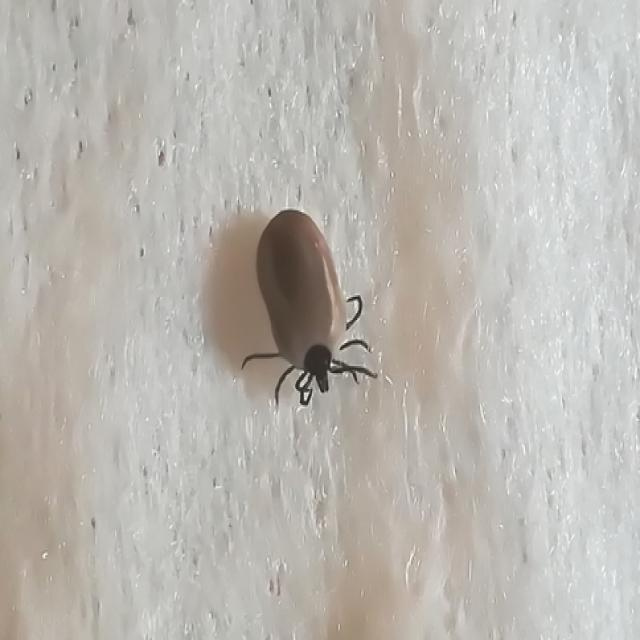Ixodes Ricinus-F-Fed: (241, 209, 380, 407)
